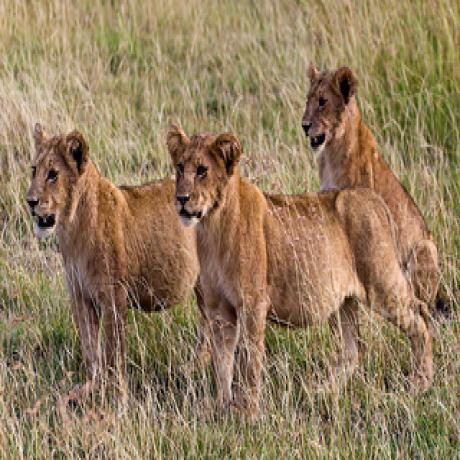Lion: (156, 119, 348, 406), (21, 118, 201, 404), (304, 59, 439, 199)
